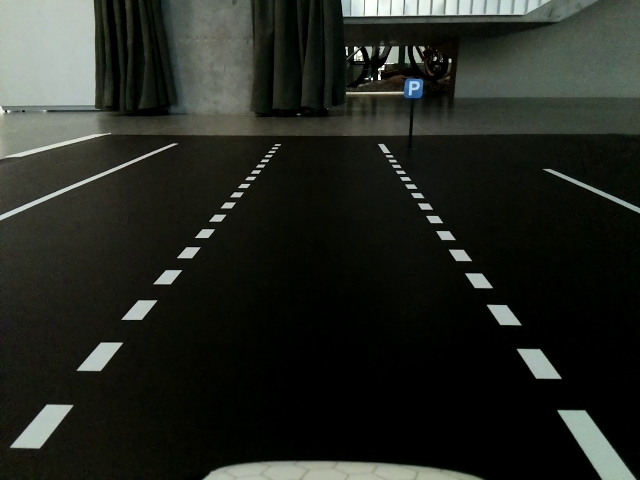park: (404, 78, 424, 98)
